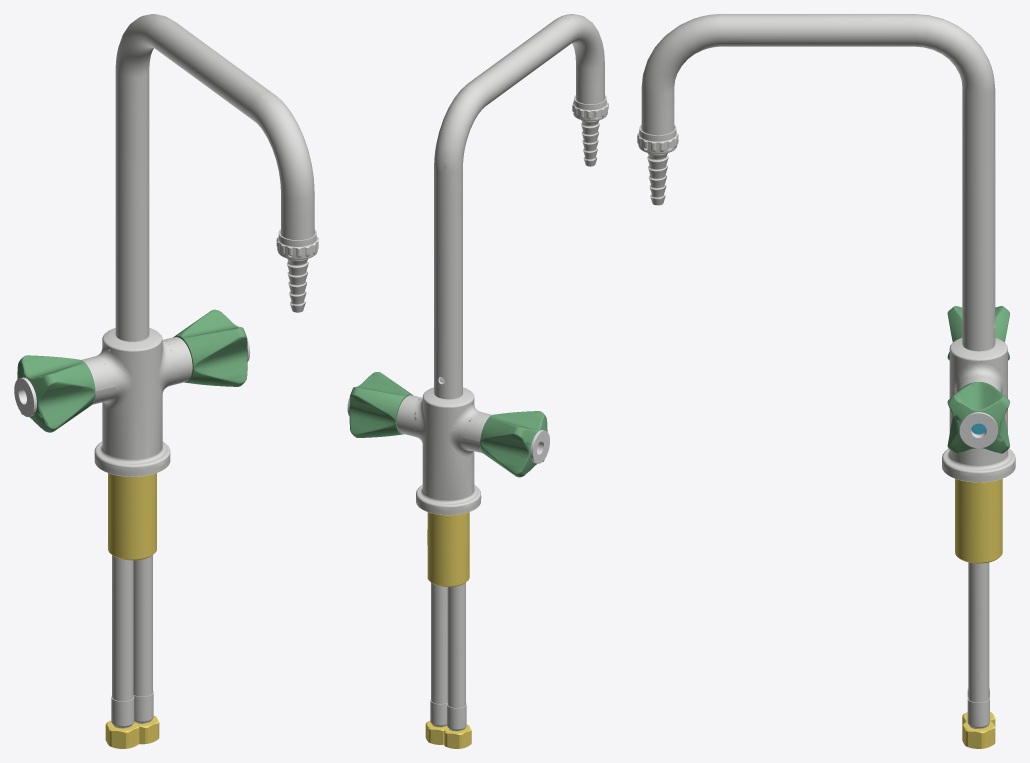
3 renders of one model, left to right at view 1: azimuth 30°, elevation 25°; view 2: azimuth 150°, elevation 25°; view 3: azimuth 270°, elevation 25°, orthographic. The views are drawn at different scales.
Visible parts, largest first — view 1: Geom3D (×12); view 2: Geom3D (×11); view 3: Geom3D (×9).
Part boxes in pixels (x1=…): Geom3D (×12): x1=14, y1=14, x2=318, y2=748; Geom3D (×11): x1=347, y1=14, x2=608, y2=748; Geom3D (×9): x1=637, y1=14, x2=1015, y2=748.
Size of the model in its own units: 0.302 by 0.9938 by 0.4717.
